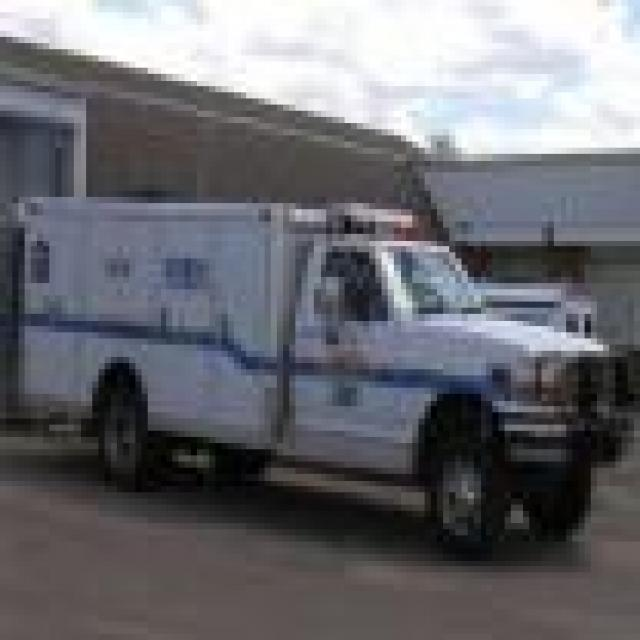emergency-vehicle: (15, 188, 631, 550)
